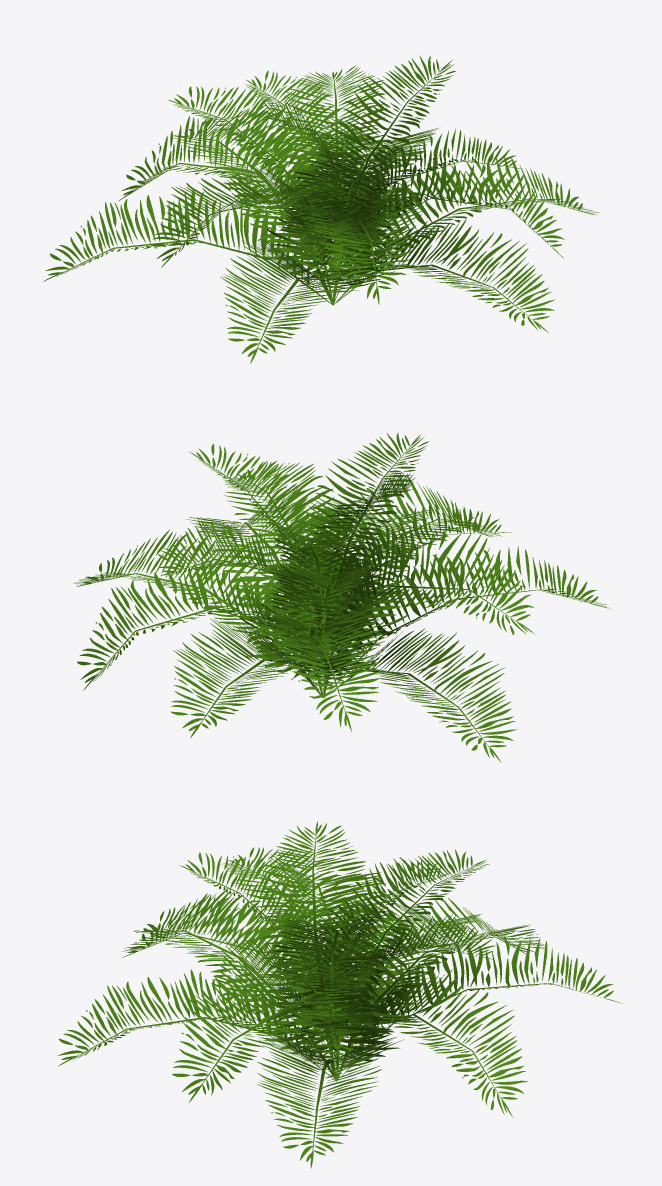
Rendered from foliage_4.gltf.
3 renders of one model, top to bottom at view 1: azimuth 30°, elevation 25°; view 2: azimuth 150°, elevation 25°; view 3: azimuth 270°, elevation 25°, orthographic. The views are drawn at different scales.
Parts seen in each view (by area): view 1: 14; view 2: 14; view 3: 14.
Boxes of the visible parts, x1,y1,x2,y2 form: 14: (43, 55, 599, 363); 14: (73, 432, 609, 762); 14: (58, 821, 622, 1168).
Bounding box in the file's own units: 0.3652 × 0.1607 × 0.3586.
1 material, 1 textured.
